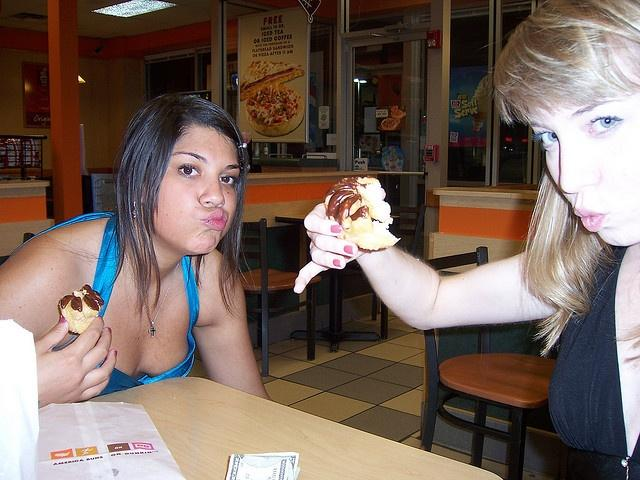Kursi: (419, 322, 561, 478), (236, 218, 320, 376)
